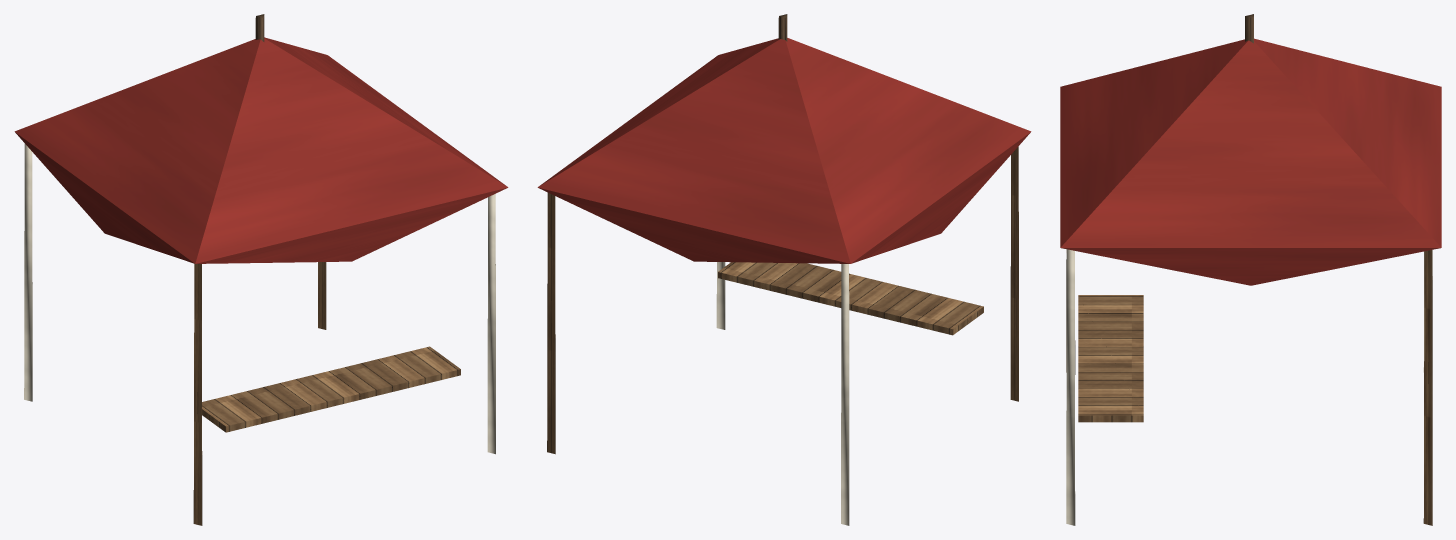
The model's file is Stall_Tent_Market_1_LOD2.gltf.
The picture shows the model from 3 angles, left to right: view 1: azimuth 30°, elevation 25°; view 2: azimuth 150°, elevation 25°; view 3: azimuth 270°, elevation 25°; orthographic projection. The views are drawn at different scales.
Visible parts, largest first — view 1: Stall_Tent_Market_1_LOD2; view 2: Stall_Tent_Market_1_LOD2; view 3: Stall_Tent_Market_1_LOD2.
Part boxes in pixels (x1,y1,x2,y2): Stall_Tent_Market_1_LOD2: (14,14,508,525); Stall_Tent_Market_1_LOD2: (537,14,1031,525); Stall_Tent_Market_1_LOD2: (1060,14,1441,525).
Size of the model in its own units: 3.2 by 4 by 3.2.
Materials: 4 (4 with a texture image).
